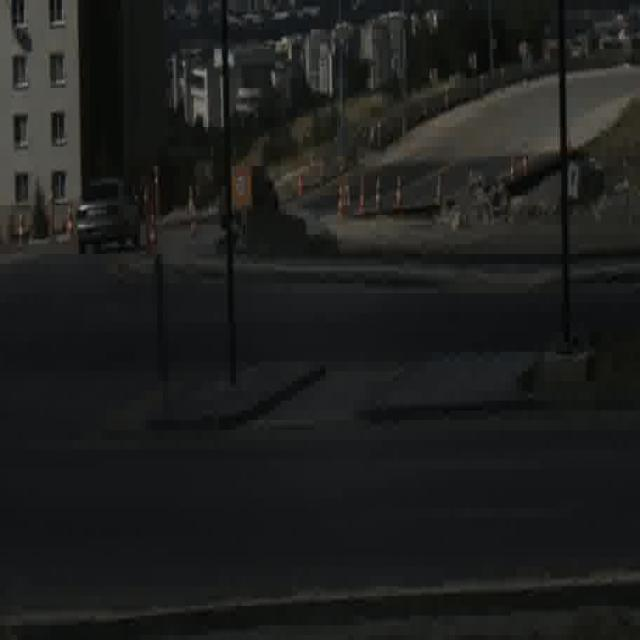Car: (78, 174, 142, 253), (219, 166, 278, 226)
